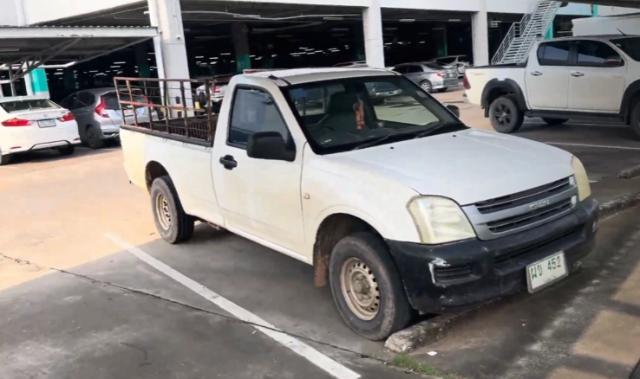pickup-truck: (111, 68, 597, 343)
